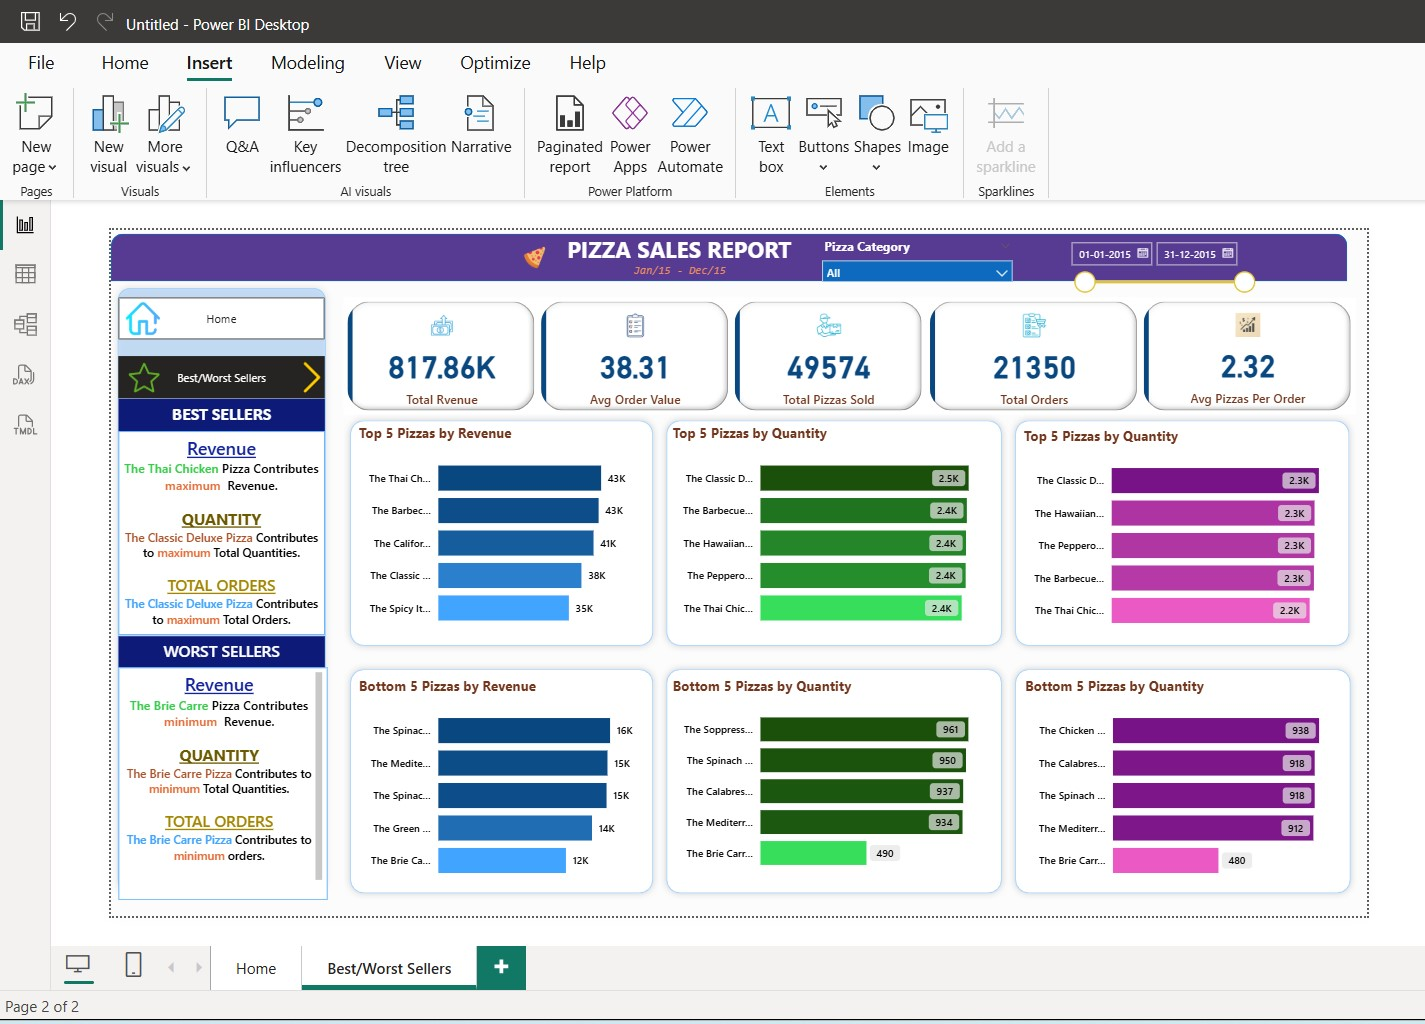

What the dashboard file says about the page in this screenshot:
{"tool":"powerbi","page":{"name":"Best/Worst Sellers","canvas":[1500,820],"ordinal":1},"visuals":[{"type":"shape","box":[0,61.8,264.5,738.2],"z":0},{"type":"cardVisual","fields":{"Data":["pizza_sales.Total Rvenue","pizza_sales.Avg Order Value","pizza_sales.Total Pizzas Sold"]},"box":[277.5,80,696.2,140],"z":1000},{"type":"cardVisual","fields":{"Data":["pizza_sales.Total Orders","pizza_sales.Avg Pizzas Per Order"]},"box":[973.8,80,513.8,140],"z":2000},{"type":"shape","box":[0,4.5,1476.1,56.7],"z":3000},{"type":"textbox","box":[531.2,0,295,46.2],"z":4000},{"type":"textbox","box":[618.8,32.5,120,28.8],"z":5000},{"type":"image","box":[412.5,15,188.8,36.2],"z":6000},{"type":"shape","box":[277.6,219.4,377.6,285.1],"z":7000},{"type":"textbox","box":[9,201.5,246.3,38.8],"z":17000},{"type":"textbox","box":[9,240.3,246.3,243.3],"z":18000},{"type":"textbox","box":[9,485.1,246.3,37.3],"z":19000},{"type":"textbox","box":[9,522.4,249.3,277.6],"z":20000},{"type":"slicer","fields":{"Values":["pizza_sales.pizza_category"]},"box":[838.8,4.5,247.8,56.7],"z":21000},{"type":"slicer","fields":{"Values":["pizza_sales.order_date"]},"box":[1134.3,4.3,240,75.7],"z":22000},{"type":"shape","box":[655.2,219.4,416.4,285.1],"z":22001},{"type":"shape","box":[1071.6,219.4,414.9,285.1],"z":22002},{"type":"shape","box":[277.6,516.4,377.6,283.6],"z":22003},{"type":"shape","box":[655.2,516.4,416.4,283.6],"z":22004},{"type":"shape","box":[1071.6,516.4,416.4,283.6],"z":22005},{"type":"barChart","title":"Top 5 Pizzas by Revenue","fields":{"Category":["pizza_sales.pizza_name"],"Y":["pizza_sales.Total Rvenue"]},"box":[291,231.3,349.3,256.7],"z":22006},{"type":"barChart","title":"Bottom 5 Pizzas by Revenue","fields":{"Category":["pizza_sales.pizza_name"],"Y":["pizza_sales.Total Rvenue"]},"box":[291,532.8,349.3,256.7],"z":22007},{"type":"barChart","title":"Top 5 Pizzas by Quantity","fields":{"Category":["pizza_sales.pizza_name"],"Y":["pizza_sales.Total Pizzas Sold"]},"box":[665.7,231.3,388.1,256.7],"z":22008},{"type":"barChart","title":"Bottom 5 Pizzas by Quantity","fields":{"Category":["pizza_sales.pizza_name"],"Y":["pizza_sales.Total Pizzas Sold"]},"box":[665.7,532.8,388.1,246.3],"z":22009},{"type":"barChart","title":"Top 5 Pizzas by Quantity","fields":{"Category":["pizza_sales.pizza_name"],"Y":["pizza_sales.Total Orders"]},"box":[1085.1,234.3,388.1,256.7],"z":22010},{"type":"barChart","title":"Bottom 5 Pizzas by Quantity","fields":{"Category":["pizza_sales.pizza_name"],"Y":["pizza_sales.Total Orders"]},"box":[1086.6,532.8,388.1,256.7],"z":22011},{"type":"pageNavigator","box":[9,80.6,246.3,50.7],"z":22012},{"type":"pageNavigator","box":[9,150.7,246.3,50.7],"z":22013},{"type":"image","box":[216.4,150.7,47.8,50.7],"z":22014},{"type":"image","box":[9,80.6,58.2,50.7],"z":22015},{"type":"image","box":[16.4,150.7,46.3,50.7],"z":22016}]}

Visuals, with their boxes on the page's 1500x820 design canvas (x1, y1, x2, y2). These are canvas units, not pixel positions in the 1425x1024 screenshot, which may show the page scaled, cropped or inside an application window:
shape: x1=0, y1=62, x2=264, y2=800
cardVisual - pizza_sales.Total Rvenue x pizza_sales.Avg Order Value: x1=278, y1=80, x2=974, y2=220
cardVisual - pizza_sales.Total Orders x pizza_sales.Avg Pizzas Per Order: x1=974, y1=80, x2=1488, y2=220
shape: x1=0, y1=4, x2=1476, y2=61
textbox: x1=531, y1=0, x2=826, y2=46
textbox: x1=619, y1=32, x2=739, y2=61
image: x1=412, y1=15, x2=601, y2=51
shape: x1=278, y1=219, x2=655, y2=504
textbox: x1=9, y1=202, x2=255, y2=240
textbox: x1=9, y1=240, x2=255, y2=484
textbox: x1=9, y1=485, x2=255, y2=522
textbox: x1=9, y1=522, x2=258, y2=800
slicer - pizza_sales.pizza_category: x1=839, y1=4, x2=1087, y2=61
slicer - pizza_sales.order_date: x1=1134, y1=4, x2=1374, y2=80
shape: x1=655, y1=219, x2=1072, y2=504
shape: x1=1072, y1=219, x2=1486, y2=504
shape: x1=278, y1=516, x2=655, y2=800
shape: x1=655, y1=516, x2=1072, y2=800
shape: x1=1072, y1=516, x2=1488, y2=800
"Top 5 Pizzas by Revenue" barChart: x1=291, y1=231, x2=640, y2=488
"Bottom 5 Pizzas by Revenue" barChart: x1=291, y1=533, x2=640, y2=790
"Top 5 Pizzas by Quantity" barChart: x1=666, y1=231, x2=1054, y2=488
"Bottom 5 Pizzas by Quantity" barChart: x1=666, y1=533, x2=1054, y2=779
"Top 5 Pizzas by Quantity" barChart: x1=1085, y1=234, x2=1473, y2=491
"Bottom 5 Pizzas by Quantity" barChart: x1=1087, y1=533, x2=1475, y2=790
pageNavigator: x1=9, y1=81, x2=255, y2=131
pageNavigator: x1=9, y1=151, x2=255, y2=201
image: x1=216, y1=151, x2=264, y2=201
image: x1=9, y1=81, x2=67, y2=131
image: x1=16, y1=151, x2=63, y2=201
